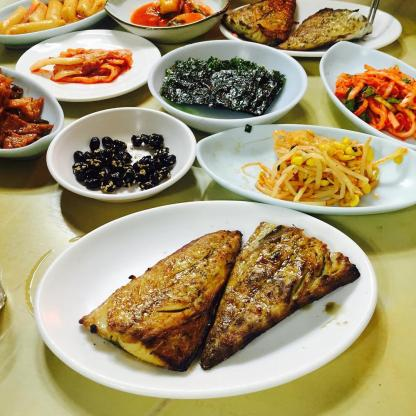Peixe: (78, 225, 347, 377), (236, 0, 373, 56)
